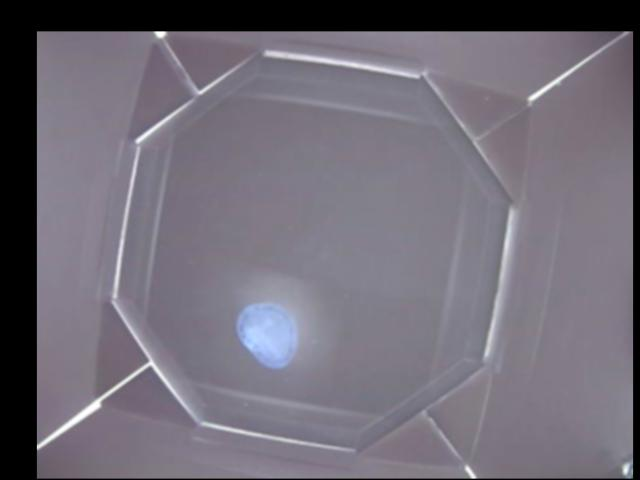Pebble: (237, 301, 296, 369)
